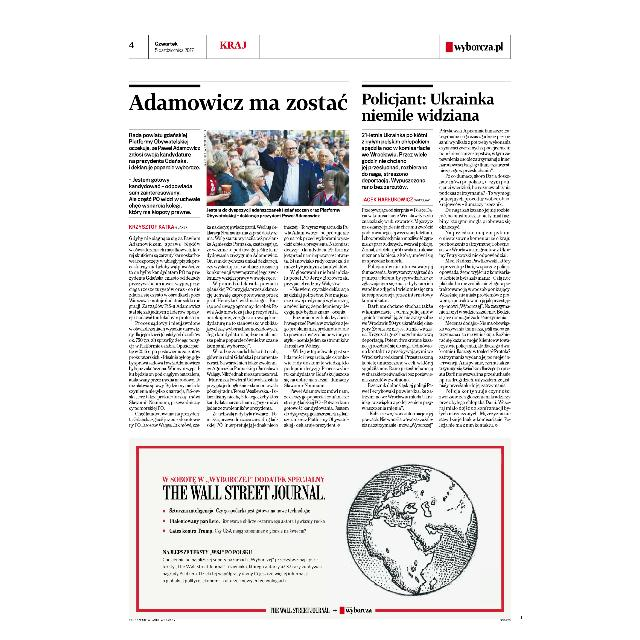article: (127, 83, 351, 433), (358, 82, 516, 430)
